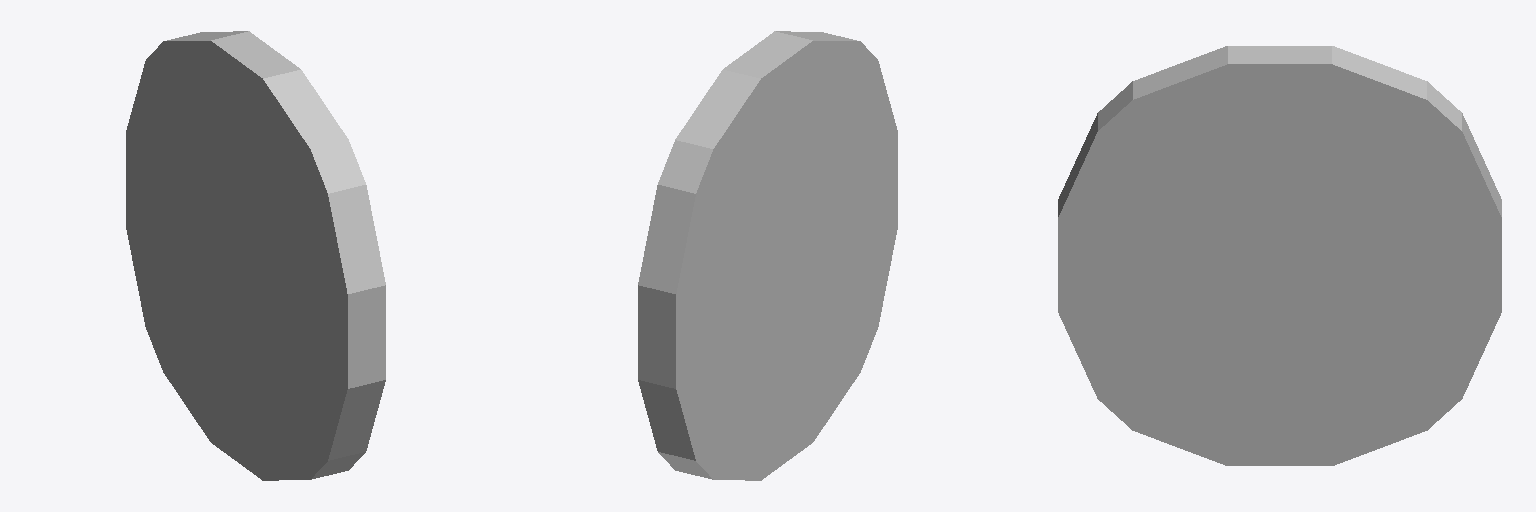
File: moon_trinket.obj
The picture shows the model from 3 angles: view 1: azimuth 30°, elevation 25°; view 2: azimuth 150°, elevation 25°; view 3: azimuth 270°, elevation 25°; orthographic projection.
Parts seen in each view (by area): view 1: Cube.009_Cube; view 2: Cube.009_Cube; view 3: Cube.009_Cube.
Boxes of the visible parts, box(x1,y1,x2,y2) form: Cube.009_Cube: box(126, 31, 385, 480); Cube.009_Cube: box(638, 31, 897, 480); Cube.009_Cube: box(1058, 46, 1501, 465).
Bounding box in the file's own units: 0.03 × 0.3 × 0.3.